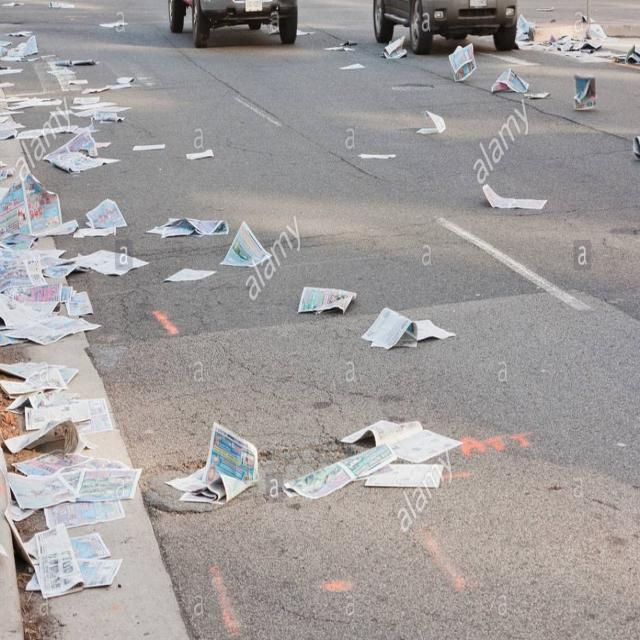garbage: (1, 10, 640, 640)
